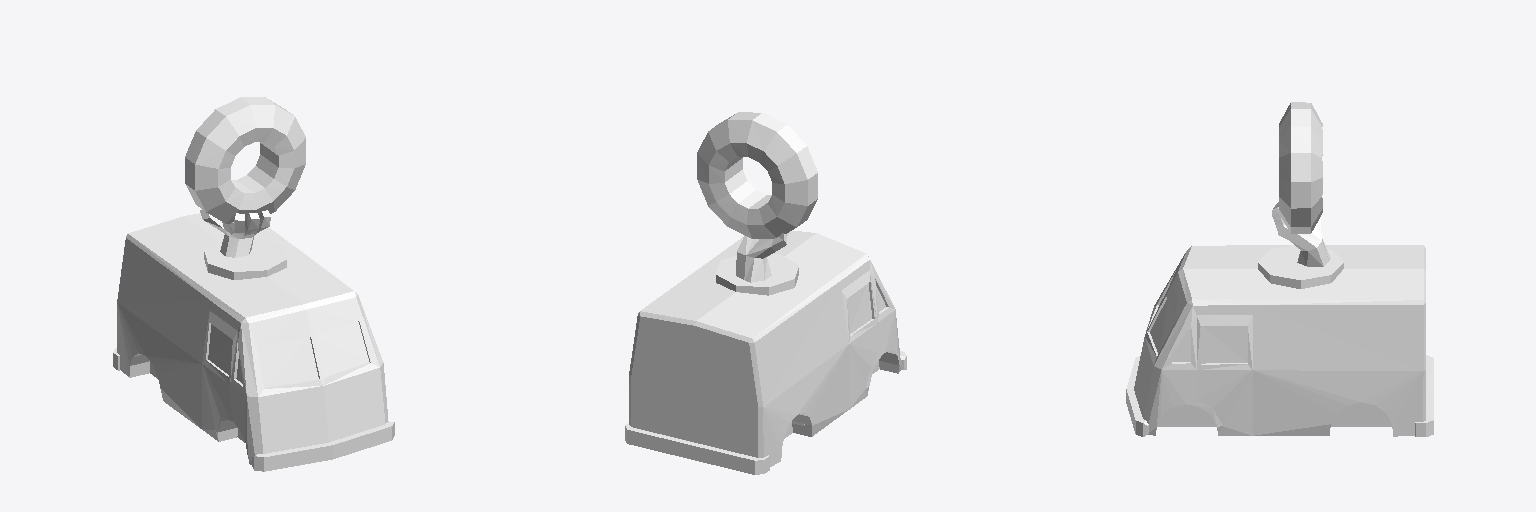
Rendered from DonutVan.obj.
The picture shows the model from 3 angles: view 1: azimuth 30°, elevation 25°; view 2: azimuth 150°, elevation 25°; view 3: azimuth 270°, elevation 25°; orthographic projection.
Parts seen in each view (by area): view 1: cDonutShape; view 2: cDonutShape; view 3: cDonutShape.
Part boxes in pixels (x1,y1,x2,y2): cDonutShape: (113,97,394,471); cDonutShape: (625,112,906,474); cDonutShape: (1126,102,1433,436).
Size of the model in its own units: 2.26 by 4.55 by 4.3.